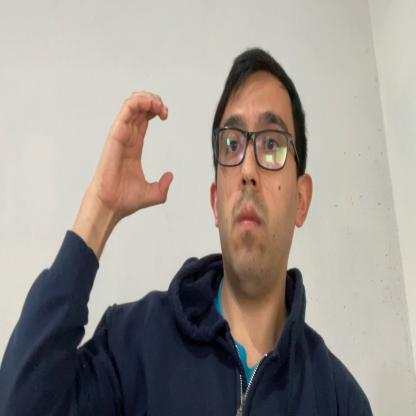C: (102, 90, 173, 215)
